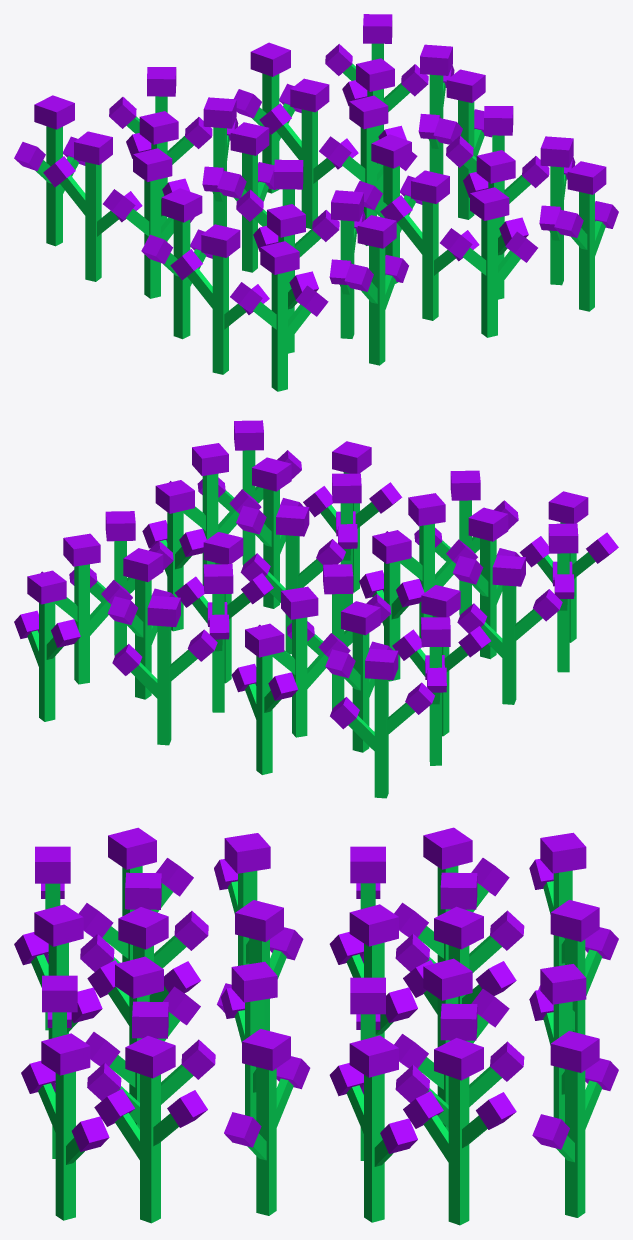
The model's file is AlfalfaFlowerPatch.fbx.
3 renders of one model, top to bottom at view 1: azimuth 30°, elevation 25°; view 2: azimuth 150°, elevation 25°; view 3: azimuth 270°, elevation 25°, orthographic. The views are drawn at different scales.
Parts seen in each view (by area): view 1: Cube.003; view 2: Cube.003; view 3: Cube.003.
Boxes of the visible parts, x1,y1,x2,y2 form: Cube.003: [14, 14, 618, 391]; Cube.003: [14, 420, 618, 798]; Cube.003: [14, 827, 618, 1225].
Size of the model in its own units: 204 by 64 by 203.
